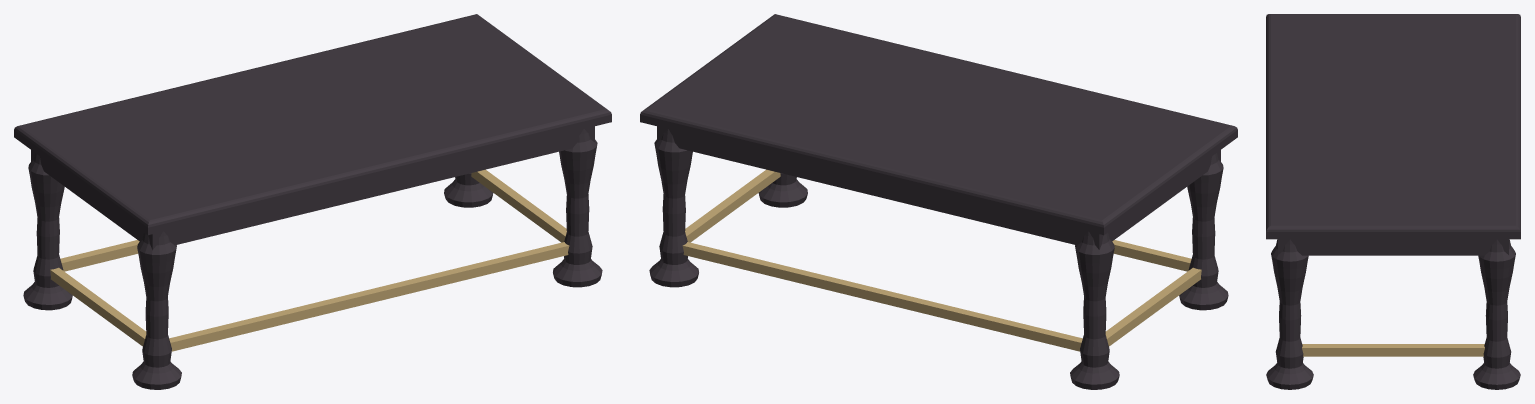
File: tarot_table.glb
3 views of the same model, side by side, from view 1: azimuth 30°, elevation 25°; view 2: azimuth 150°, elevation 25°; view 3: azimuth 270°, elevation 25° (orthographic). The views are drawn at different scales.
Visible parts, largest first — view 1: tarot_table; view 2: tarot_table; view 3: tarot_table.
Part boxes in pixels (x1,y1,x2,y2): tarot_table: (14, 14, 611, 389); tarot_table: (640, 14, 1237, 389); tarot_table: (1266, 14, 1520, 389).
Size of the model in its own units: 3.2 by 1.13 by 1.6.
